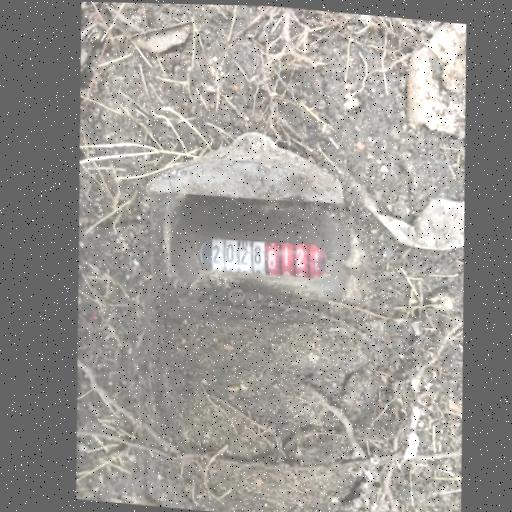0: (221, 239, 240, 272)
1: (277, 241, 297, 277), (306, 244, 324, 279)
2: (235, 239, 255, 273), (291, 242, 310, 277), (208, 238, 226, 271)
8: (263, 241, 282, 275), (249, 241, 268, 274)
border_water_meter_number: (192, 232, 331, 286)
